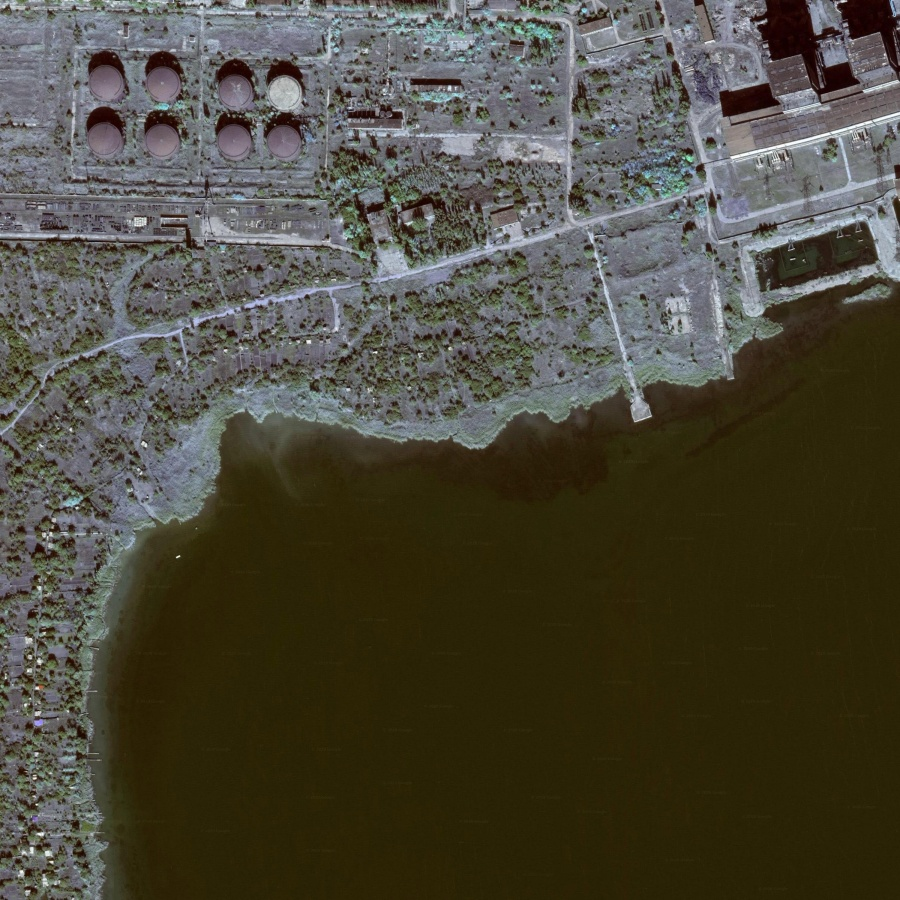PowerPlant: (53, 11, 323, 189)
